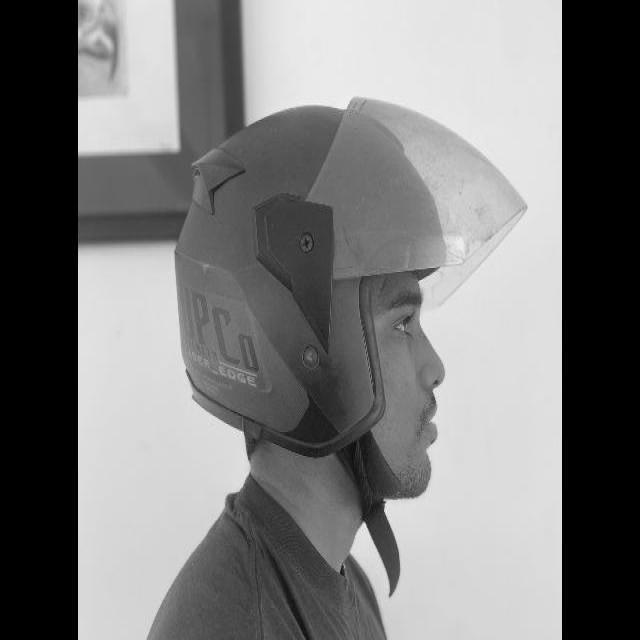5_casco: (173, 96, 529, 461)
